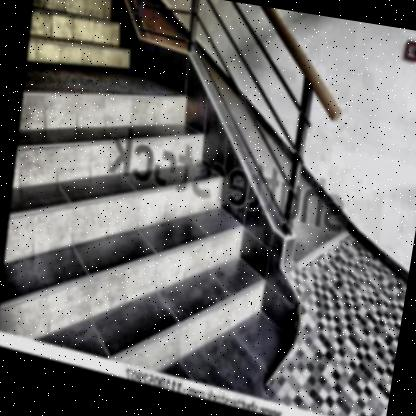stair: (0, 40, 353, 409)
